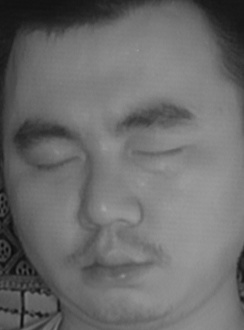blink: (134, 133, 190, 170), (32, 145, 84, 181)
mouth: (76, 240, 153, 294)
